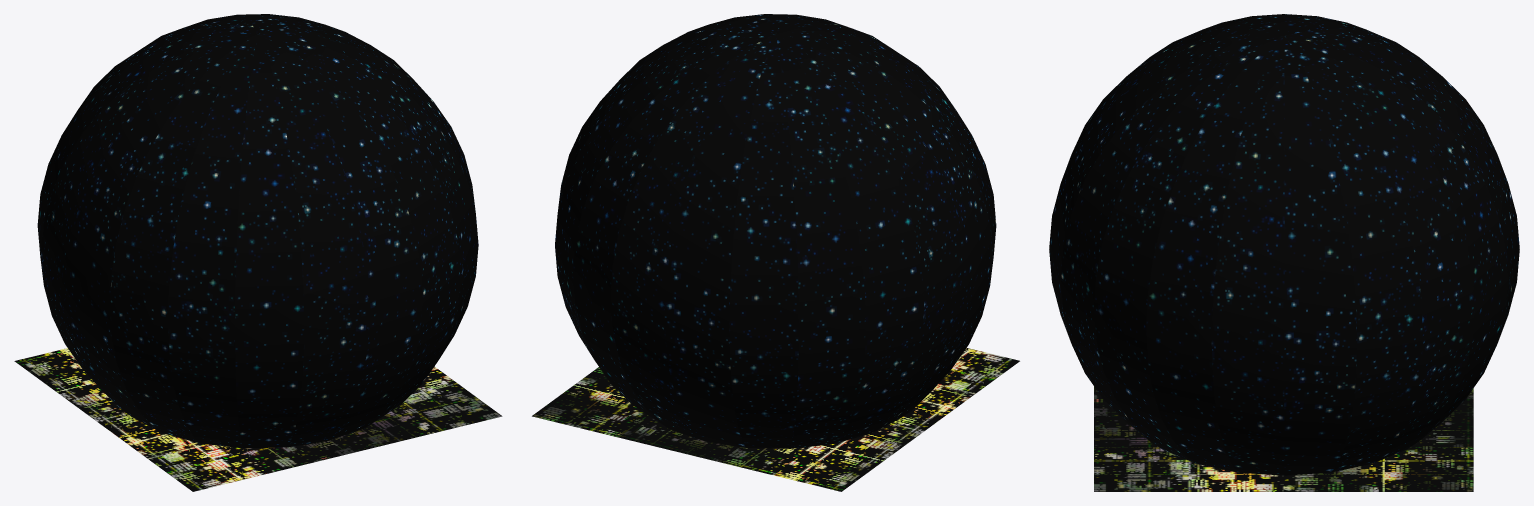
The model's file is FinalKingBeyondSky.fbx.
3 views of the same model, side by side, from view 1: azimuth 30°, elevation 25°; view 2: azimuth 150°, elevation 25°; view 3: azimuth 270°, elevation 25° (orthographic). The views are drawn at different scales.
Visible parts, largest first — view 1: mesh-0, Plane; view 2: mesh-0, Plane; view 3: mesh-0, Plane.
Part boxes in pixels (bbox=[...]): mesh-0: bbox=[37, 14, 478, 448]; Plane: bbox=[14, 348, 502, 491]; mesh-0: bbox=[555, 14, 996, 448]; Plane: bbox=[532, 348, 1019, 491]; mesh-0: bbox=[1049, 14, 1519, 475]; Plane: bbox=[1094, 386, 1473, 491].
Bounding box in the file's own units: 5.98e+07 × 5.98e+07 × 5.98e+07.
Materials: 2 (2 with a texture image).
